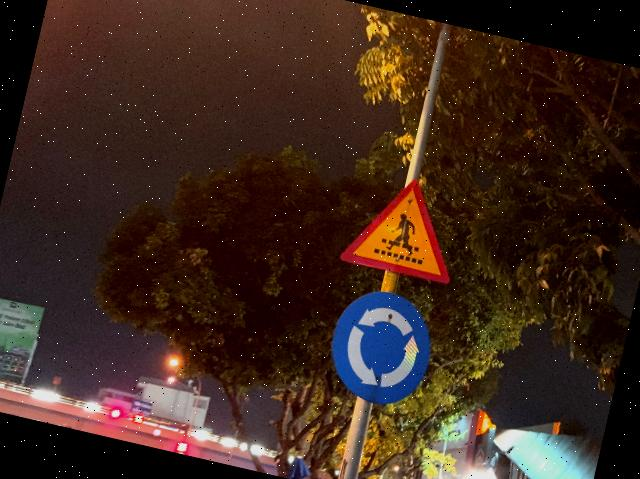duong-nguoi-di-bo-cat-ngang: (338, 164, 471, 286)
noi-giao-nhau-chay-theo-vong-xuyen: (319, 281, 442, 416)
